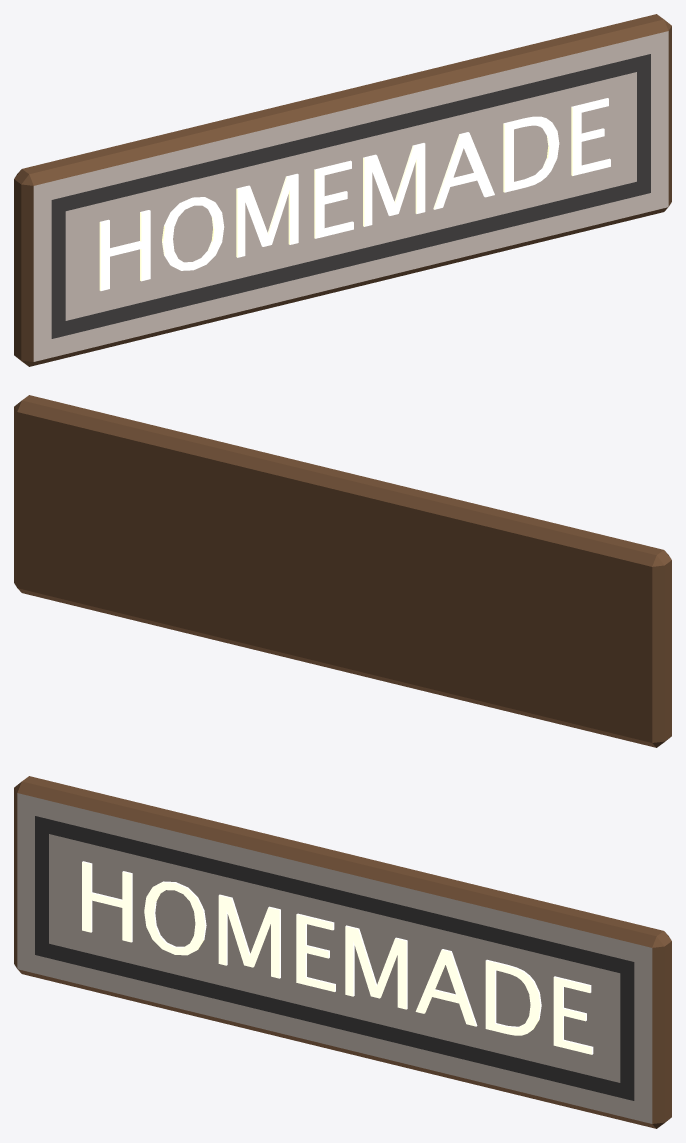
Rendered from Sighnboard_1.glb.
3 views of the same model, one above another, from view 1: azimuth 30°, elevation 25°; view 2: azimuth 150°, elevation 25°; view 3: azimuth 330°, elevation 25° (orthographic).
Visible parts, largest first — view 1: Sighnboard_1; view 2: Sighnboard_1; view 3: Sighnboard_1.
Boxes of the visible parts, x1=… form: Sighnboard_1: x1=14, y1=14, x2=671, y2=366; Sighnboard_1: x1=14, y1=395, x2=671, y2=747; Sighnboard_1: x1=14, y1=776, x2=671, y2=1128.
Bounding box in the file's own units: 1.16 × 0.3291 × 0.0548.
2 materials, 1 textured.
